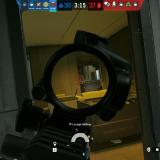Friend_label: (120, 68, 128, 74)
